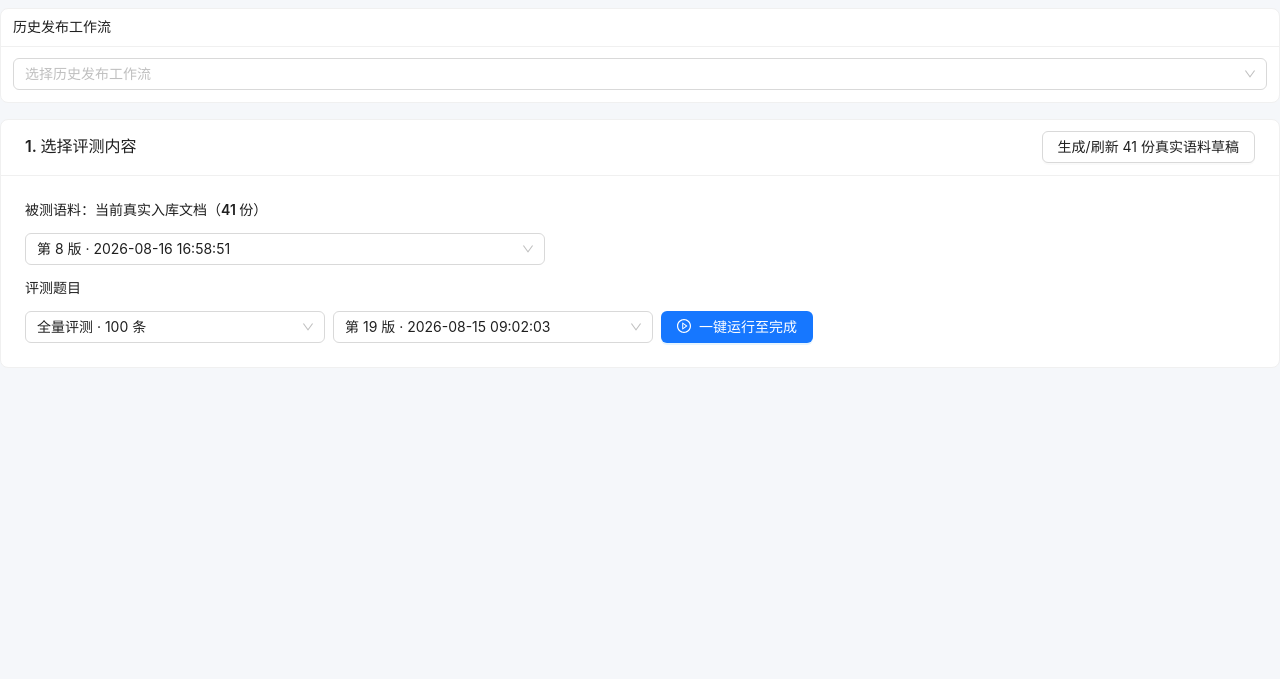
Test: ReleaseEvaluationPanel › starts directly from a frozen current-corpus version and the 100-case suite
Expected: the text "被测语料：当前真实入库文档（41 份）" is shown, [25, 200, 267, 218]
Expected: the text "全量评测 · 100 条" is shown, [37, 318, 146, 334]
Click the button "一键运行至完成". click: point(737, 326)
box: [661, 310, 813, 342]
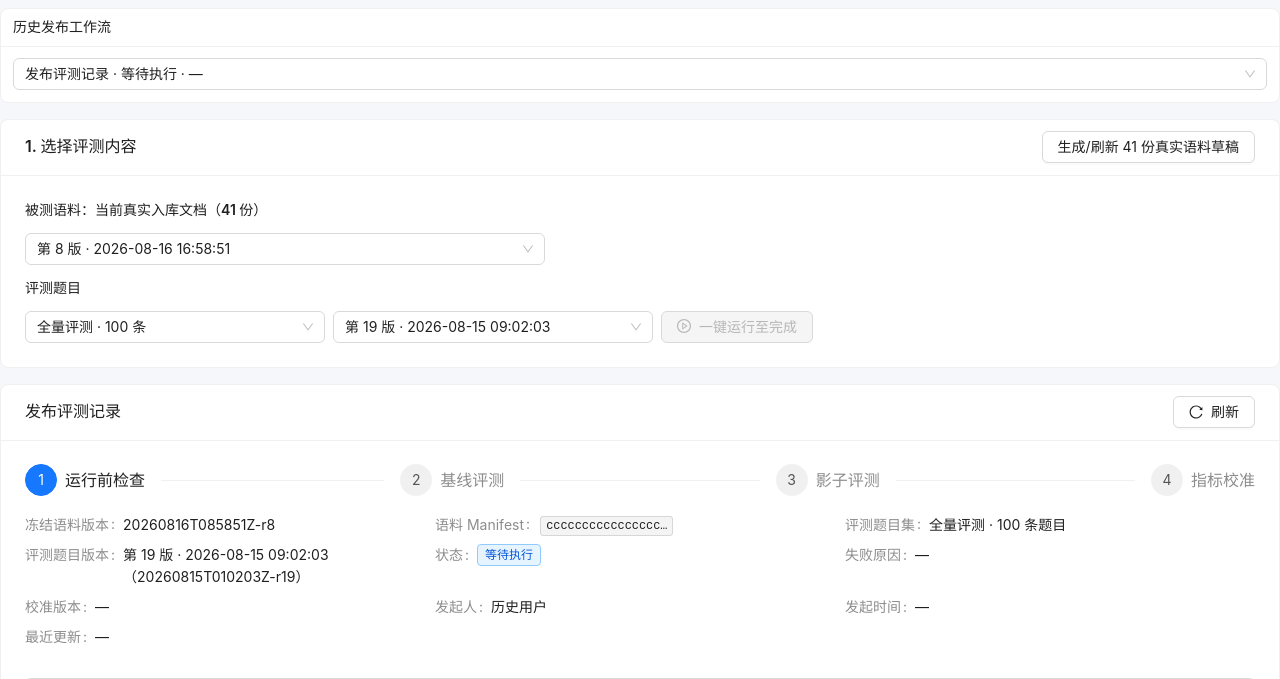
Expected: the text "发布评测记录" is shown, [25, 401, 121, 421]
Expected: the text "全量评测 · 100 条题目" is shown, [929, 516, 1066, 532]
